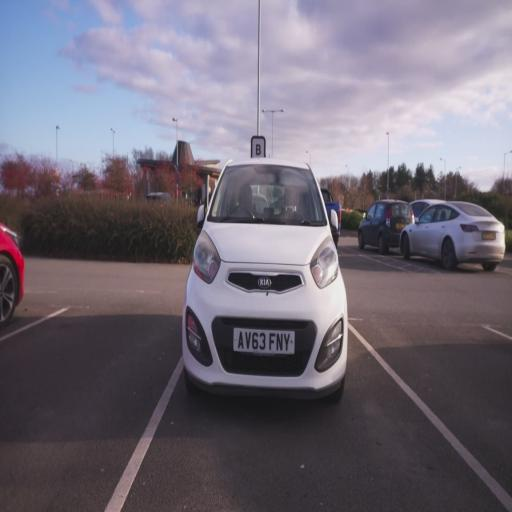numberplates: (234, 329, 294, 354), (482, 232, 495, 240), (396, 223, 406, 228)
